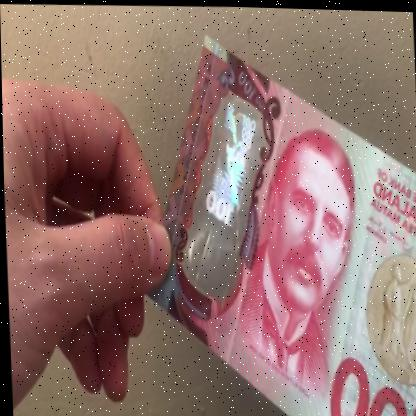100F: (181, 95, 262, 280)
